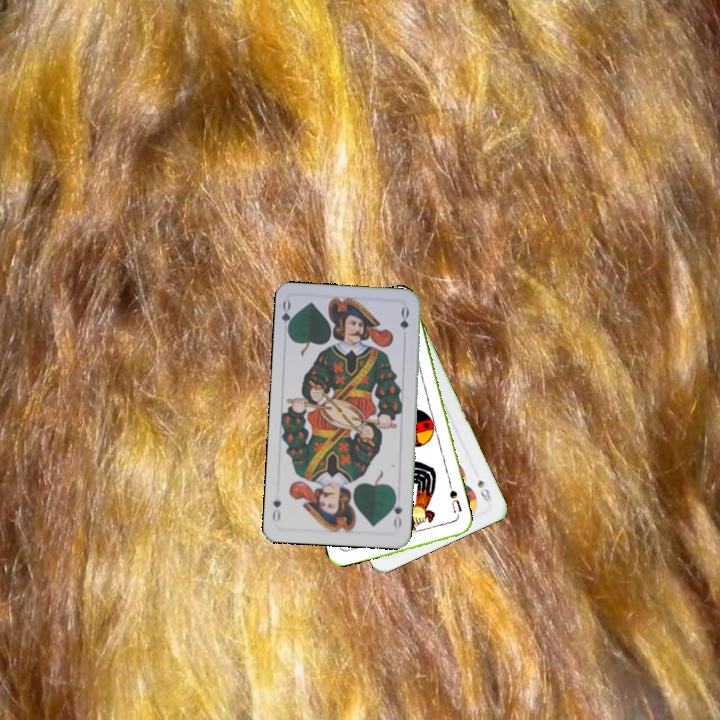GO: (277, 297, 297, 338), (388, 492, 405, 532)
S8: (473, 475, 494, 505)
SU: (445, 486, 465, 515)
